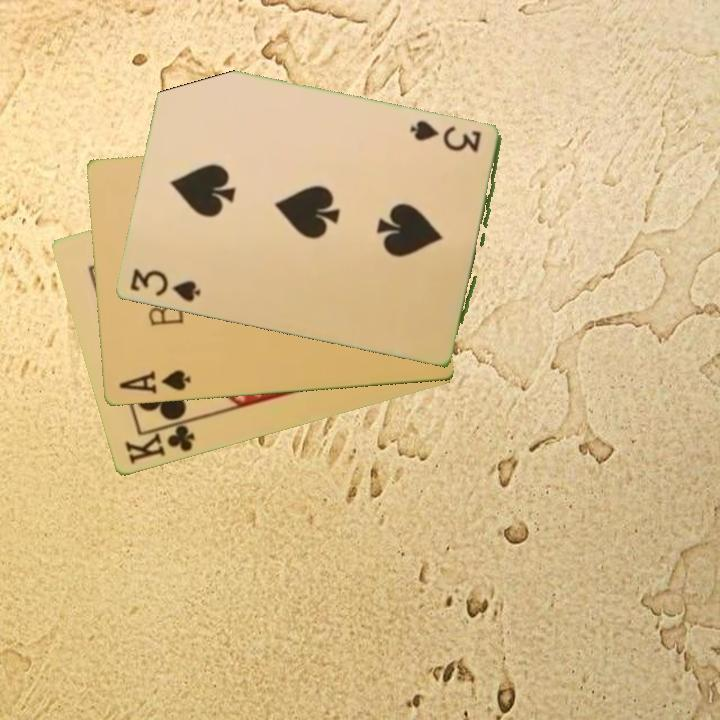3s: (126, 265, 203, 305), (410, 117, 484, 156)
As: (115, 367, 193, 398)
Kc: (121, 417, 198, 467)
